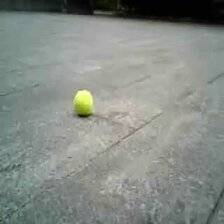tennis: (74, 90, 93, 114)
